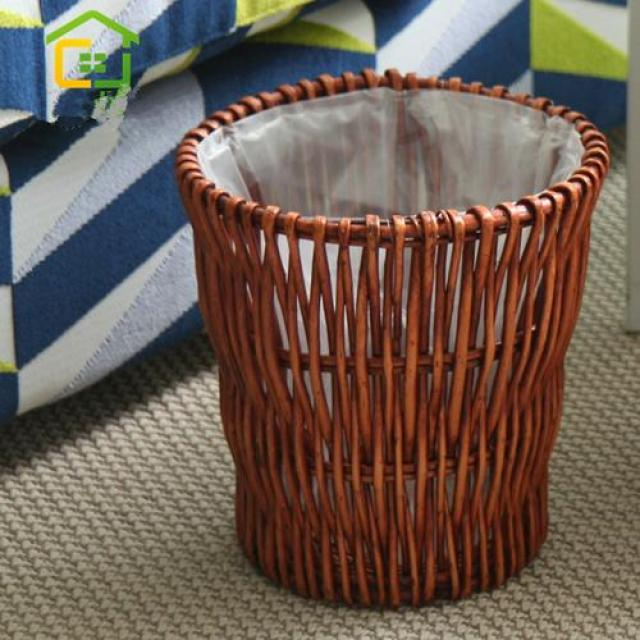dustbin: (171, 63, 614, 615)
